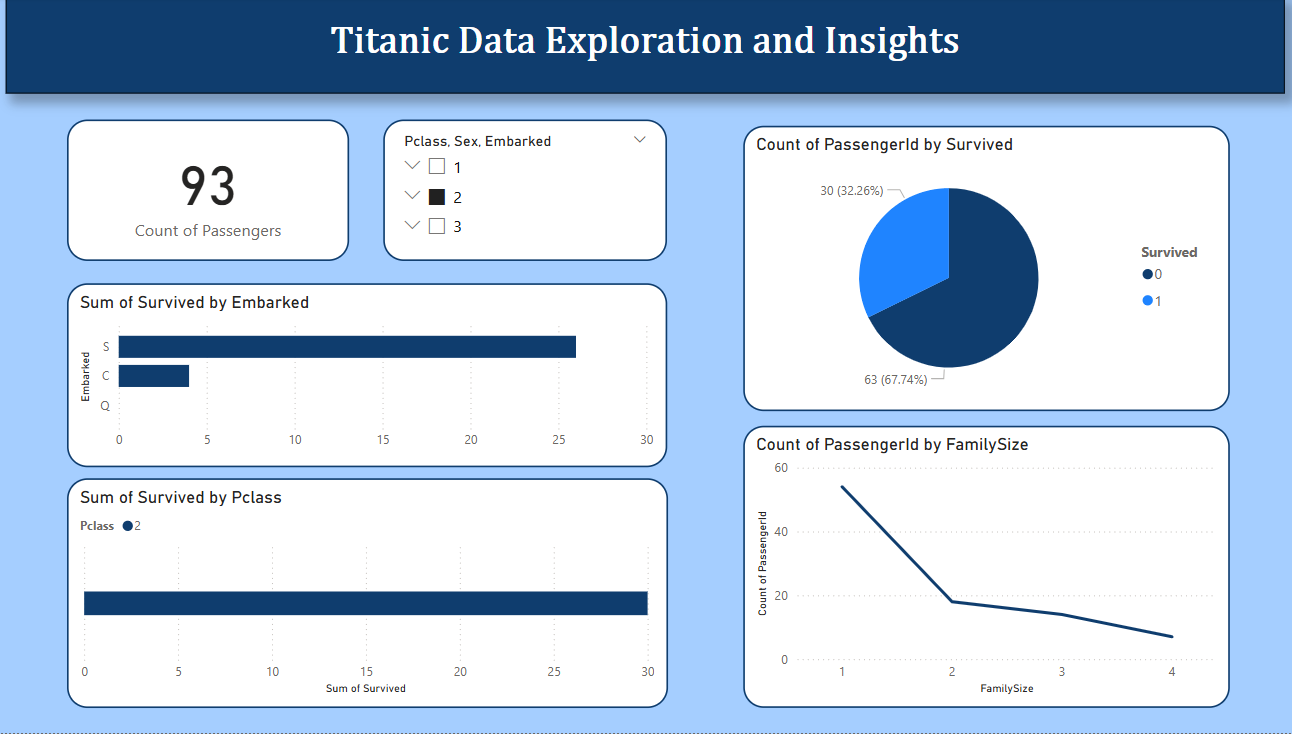

This screenshot's page, from the dashboard's own definition file:
{"tool":"powerbi","page":{"name":"Page 1","canvas":[1280,720],"ordinal":0},"visuals":[{"type":"card","fields":{"Values":["CountNonNull(test.PassengerId)"]},"box":[73.4,119.8,276.4,138.2],"z":0},{"type":"pieChart","fields":{"Category":["test.Survived"],"Y":["CountNonNull(test.PassengerId)"]},"box":[734.9,126,475.7,278.8],"z":1000},{"type":"clusteredBarChart","fields":{"Y":["Sum(test.Survived)"],"Series":["test.Pclass"]},"box":[73.4,470.8,588.2,225],"z":2000},{"type":"barChart","fields":{"Y":["Sum(test.Survived)"],"Category":["test.Embarked"]},"box":[73.4,280,587,179.8],"z":3000},{"type":"lineChart","fields":{"Category":["test.FamilySize"],"Y":["CountNonNull(test.PassengerId)"]},"box":[734.9,419.4,475.7,276.4],"z":4000},{"type":"slicer","fields":{"Values":["test.Pclass","test.Sex","test.Embarked"]},"box":[382.7,119.8,277.6,138.2],"z":5000},{"type":"textbox","box":[13.5,0,1251,94.2],"z":6000}]}

Visuals, with their boxes in screenshot pixels (x1, y1, x2, y2), scaled from the page's 1280x720 canvas onto the 1292x734 screenshot:
card - CountNonNull(test.PassengerId): rect(74, 122, 353, 263)
pieChart - test.Survived x CountNonNull(test.PassengerId): rect(742, 128, 1222, 413)
clusteredBarChart - Sum(test.Survived) x test.Pclass: rect(74, 480, 668, 709)
barChart - Sum(test.Survived) x test.Embarked: rect(74, 285, 667, 469)
lineChart - test.FamilySize x CountNonNull(test.PassengerId): rect(742, 428, 1222, 709)
slicer - test.Pclass x test.Sex: rect(386, 122, 666, 263)
textbox: rect(14, 0, 1276, 96)
